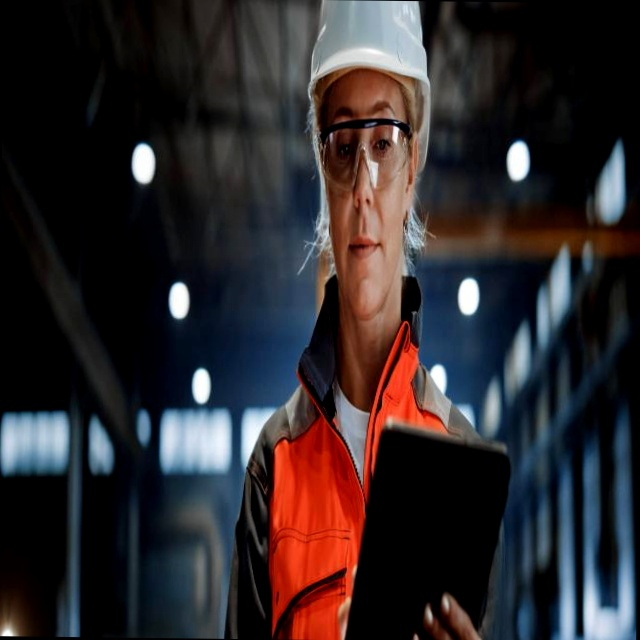goggles: (320, 117, 418, 194)
helmet: (309, 0, 434, 161)
